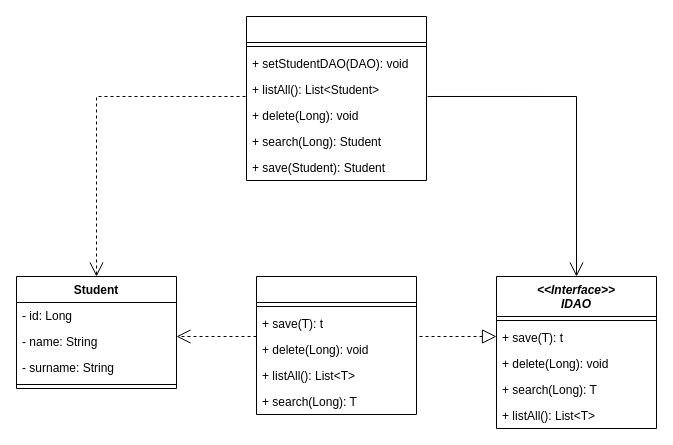
The diagram is 673 pixels wide and 445 high, and some of its shapes have lost their labels. Each missing label, with the box of its shape:
StudentDAOH2: (256, 276, 416, 414)
StudentService: (246, 16, 426, 180)
